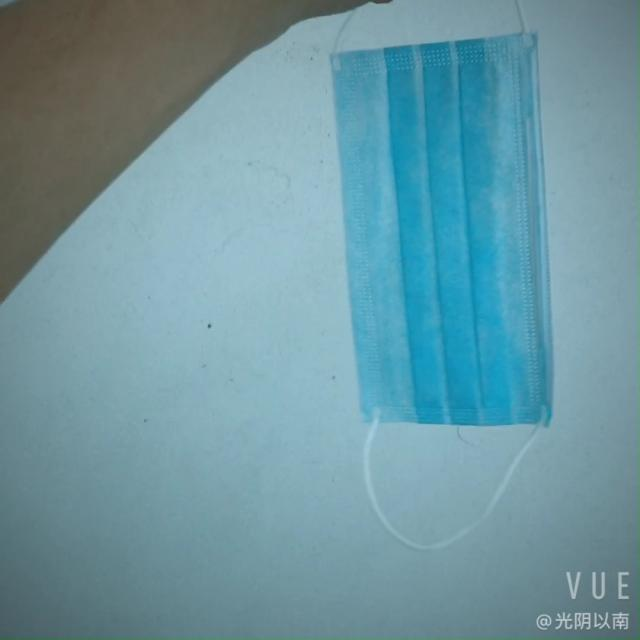non-organic waste: (330, 18, 590, 453)
